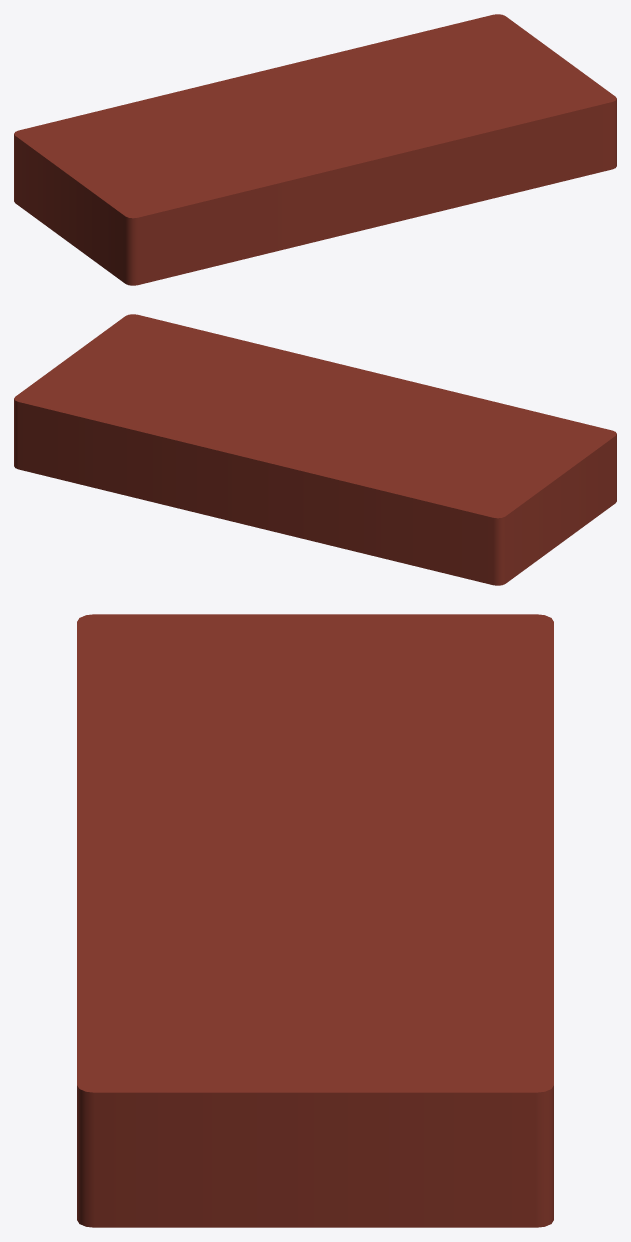
File: colchon.fbx
The picture shows the model from 3 angles, top to bottom: view 1: azimuth 30°, elevation 25°; view 2: azimuth 150°, elevation 25°; view 3: azimuth 270°, elevation 25°; orthographic projection. The views are drawn at different scales.
Visible parts, largest first — view 1: colchon; view 2: colchon; view 3: colchon.
Boxes of the visible parts, box(x1,y1,x2,y2) form: colchon: box(14, 14, 616, 285); colchon: box(14, 314, 616, 585); colchon: box(77, 614, 553, 1227).
Size of the model in its own units: 190 by 25 by 80.
